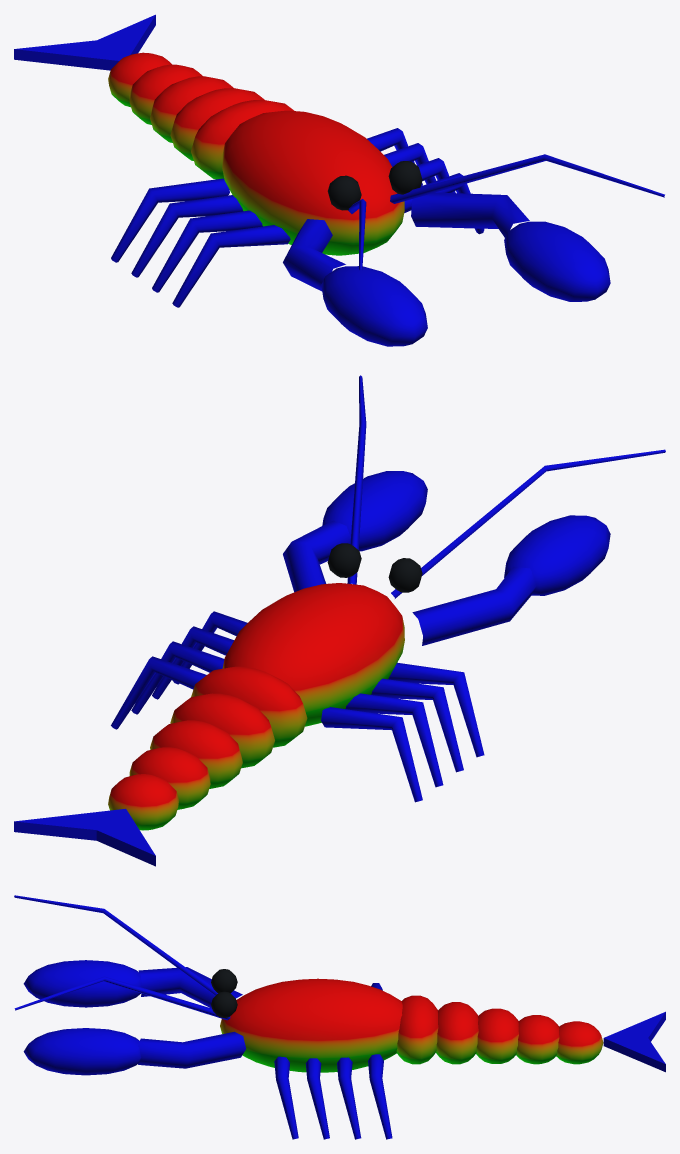
Rendered from fish_lobster.glb.
3 renders of one model, top to bottom at view 1: azimuth 30°, elevation 25°; view 2: azimuth 150°, elevation 25°; view 3: azimuth 270°, elevation 25°, orthographic. The views are drawn at different scales.
Parts seen in each view (by area): view 1: Body, Eye; view 2: Body, Eye; view 3: Body, Eye.
Boxes of the visible parts, x1,y1,x2,y2 form: Body: (14, 14, 664, 346); Eye: (327, 161, 422, 210); Body: (14, 375, 665, 866); Eye: (327, 543, 422, 592); Body: (14, 895, 665, 1139); Eye: (211, 969, 237, 1017).
Size of the model in its own units: 0.6122 by 0.3493 by 1.46.
